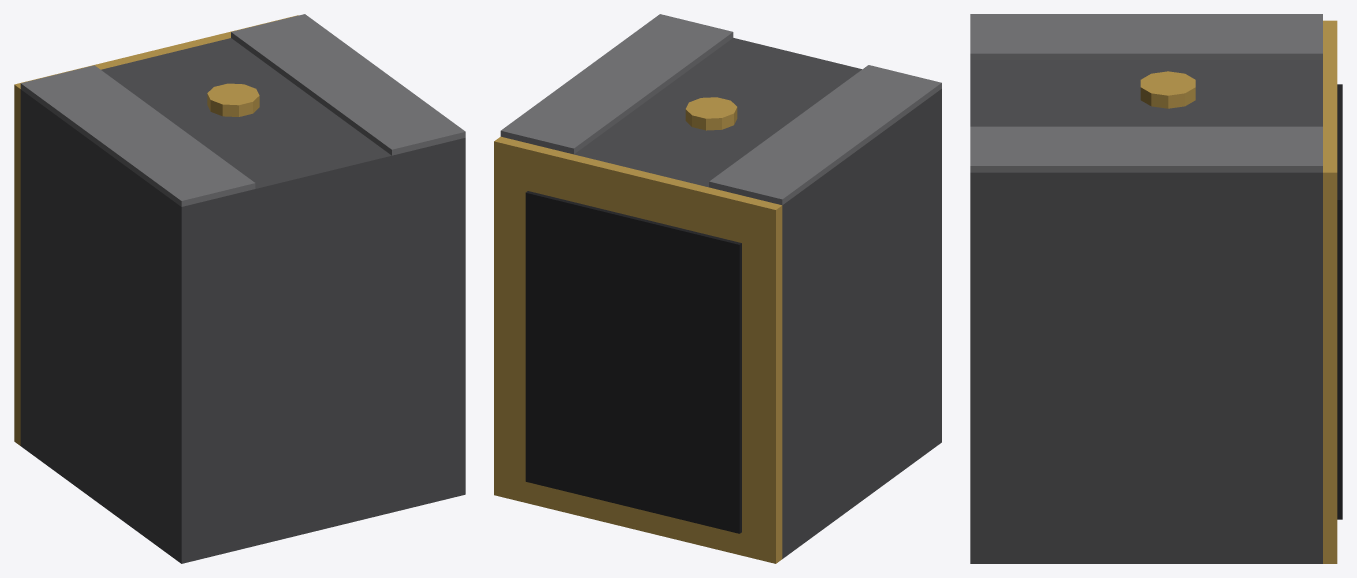
The model's file is vge_industrial_oxygen_pump.obj.
3 renders of one model, left to right at view 1: azimuth 30°, elevation 25°; view 2: azimuth 150°, elevation 25°; view 3: azimuth 270°, elevation 25°, orthographic. The views are drawn at different scales.
Parts seen in each view (by area): view 1: vge_industrial_oxygen_pump_0, vge_industrial_oxygen_pump_1, vge_industrial_oxygen_pump_2, vge_industrial_oxygen_pump_4, vge_industrial_oxygen_pump_3; view 2: vge_industrial_oxygen_pump_0, vge_industrial_oxygen_pump_5, vge_industrial_oxygen_pump_4, vge_industrial_oxygen_pump_2, vge_industrial_oxygen_pump_1, vge_industrial_oxygen_pump_3; view 3: vge_industrial_oxygen_pump_0, vge_industrial_oxygen_pump_2, vge_industrial_oxygen_pump_1, vge_industrial_oxygen_pump_4, vge_industrial_oxygen_pump_5, vge_industrial_oxygen_pump_3.
Part boxes in pixels (x1,y1,x2,y2): vge_industrial_oxygen_pump_0: (20, 38, 465, 563); vge_industrial_oxygen_pump_1: (20, 65, 255, 206); vge_industrial_oxygen_pump_2: (231, 14, 465, 155); vge_industrial_oxygen_pump_4: (14, 15, 298, 445); vge_industrial_oxygen_pump_3: (207, 83, 259, 116); vge_industrial_oxygen_pump_0: (574, 38, 941, 558); vge_industrial_oxygen_pump_5: (525, 191, 741, 533); vge_industrial_oxygen_pump_4: (494, 136, 782, 563); vge_industrial_oxygen_pump_2: (500, 14, 733, 154); vge_industrial_oxygen_pump_1: (709, 65, 941, 205); vge_industrial_oxygen_pump_3: (685, 97, 737, 130); vge_industrial_oxygen_pump_0: (970, 60, 1322, 563); vge_industrial_oxygen_pump_2: (970, 126, 1322, 172); vge_industrial_oxygen_pump_1: (970, 14, 1322, 59); vge_industrial_oxygen_pump_4: (1323, 20, 1337, 563); vge_industrial_oxygen_pump_5: (1337, 84, 1342, 519); vge_industrial_oxygen_pump_3: (1140, 71, 1195, 108).
Size of the model in its own units: 1 by 1.24 by 1.04.
